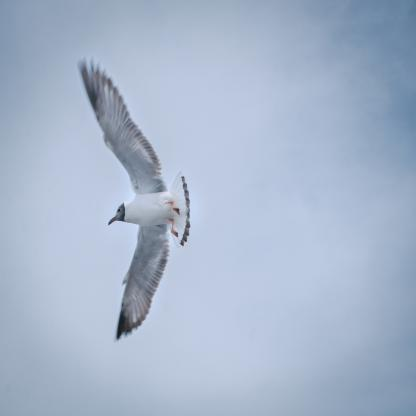bird: (77, 56, 191, 344)
